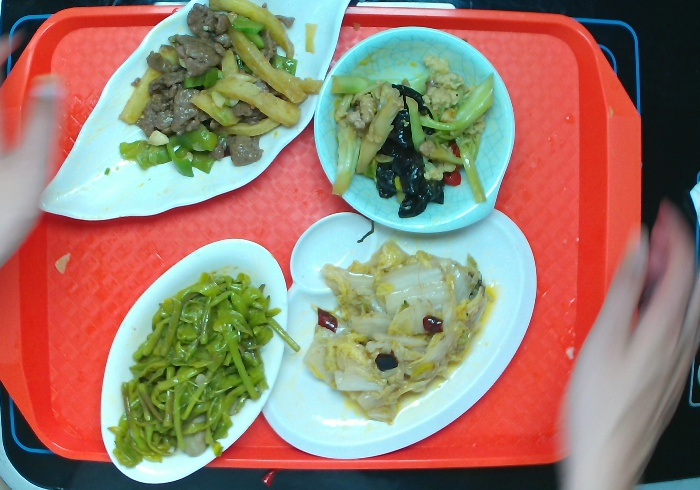RJxy-Bai_Se_Tuo_Yuan: (96, 229, 298, 490)
RJxy-Shu_Ye_Pan: (41, 1, 365, 229)
RJxy-Xiao_Jiao_Yuan_Wan: (309, 26, 521, 235)
RJxy-Zhan_Liao_Pan: (247, 197, 542, 465)
